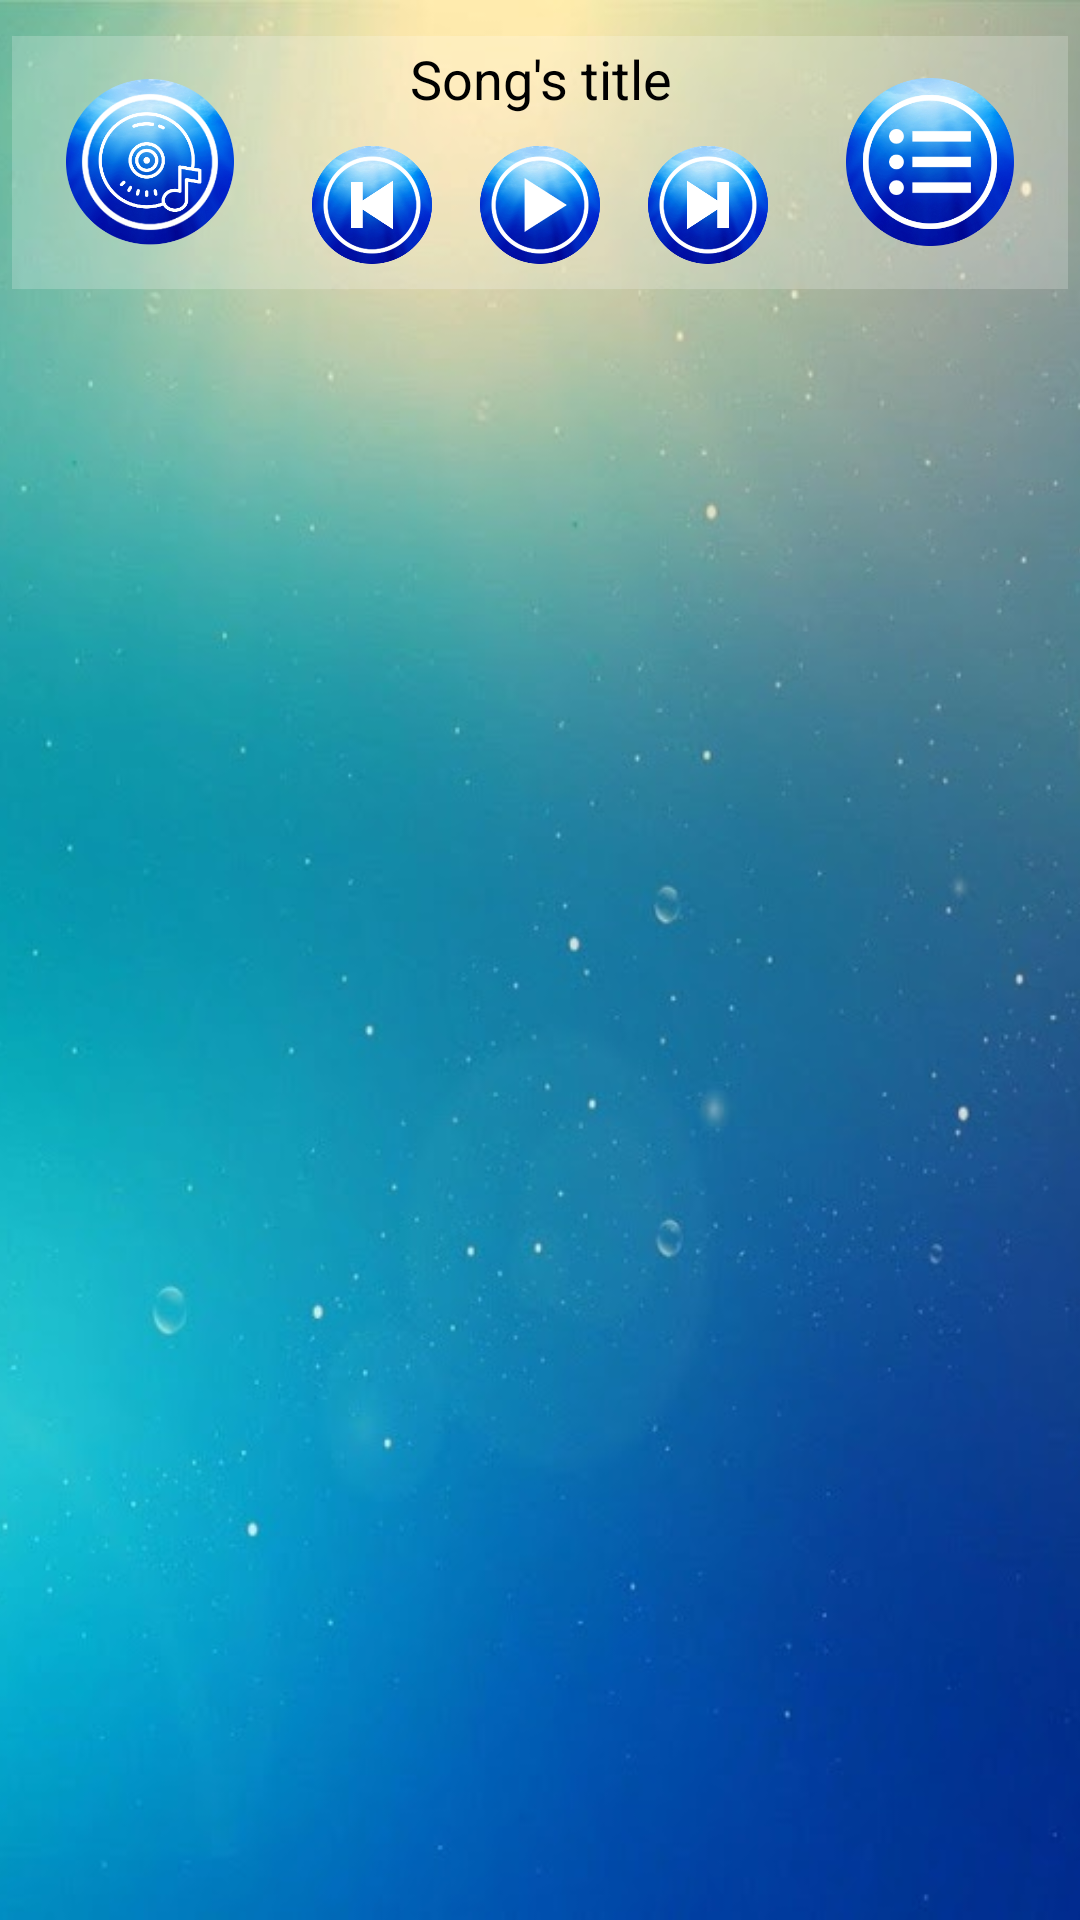

Screen size 1080×1920. Icon name, then its center in pixels as (x=x, y=y):
play: (x=540, y=205)
Player bar icon: (x=150, y=162)
previous: (x=372, y=205)
